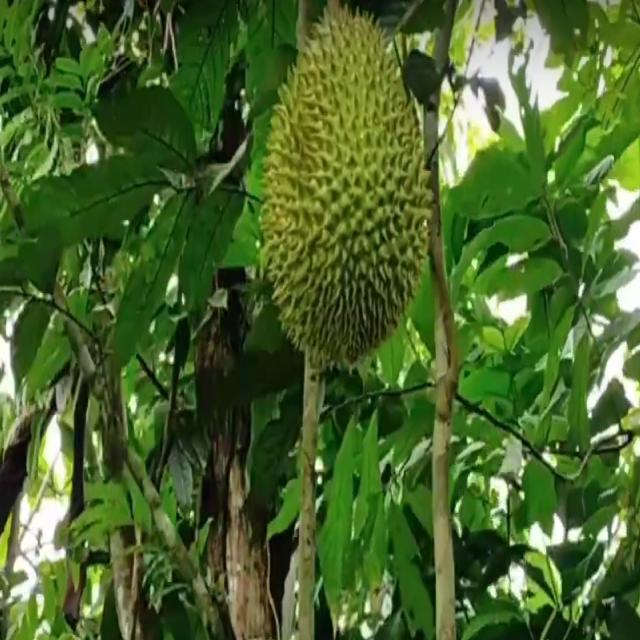immature: (259, 4, 435, 370)
